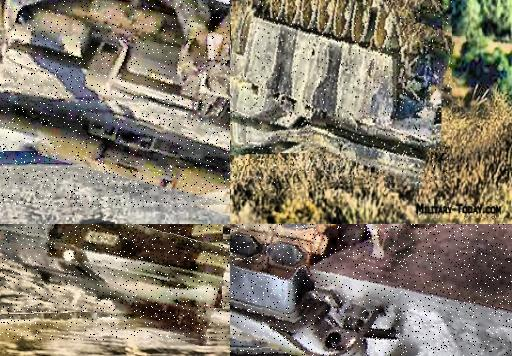tanks: (1, 1, 231, 208), (231, 1, 453, 184), (231, 225, 512, 356), (1, 225, 231, 341)
